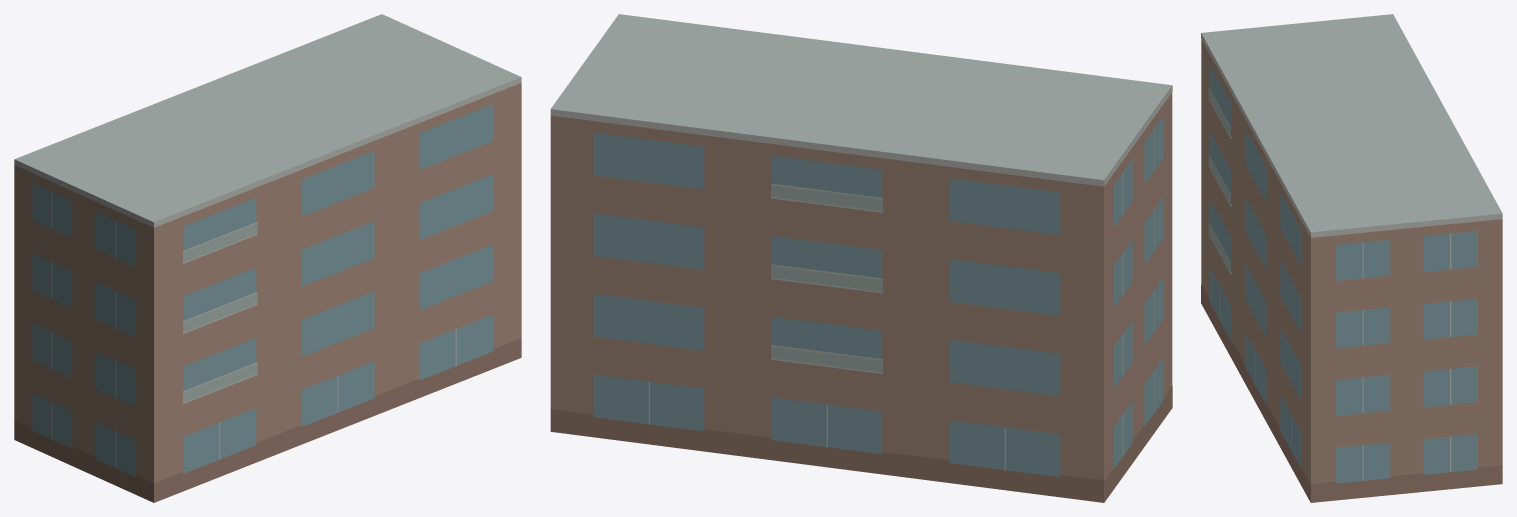
The model's file is residential-6fb0d76d-1c41-4325-9ea3-916b94d1a19b.glb.
The picture shows the model from 3 angles, left to right: view 1: azimuth 30°, elevation 25°; view 2: azimuth 150°, elevation 25°; view 3: azimuth 270°, elevation 25°; orthographic projection. The views are drawn at different scales.
Visible parts, largest first — view 1: residential-6fb0d76d-1c41-4325-9ea3-916b94d1a19b.tmp; view 2: residential-6fb0d76d-1c41-4325-9ea3-916b94d1a19b.tmp; view 3: residential-6fb0d76d-1c41-4325-9ea3-916b94d1a19b.tmp.
Boxes of the visible parts, x1,y1,x2,y2 form: residential-6fb0d76d-1c41-4325-9ea3-916b94d1a19b.tmp: (14,14,521,502); residential-6fb0d76d-1c41-4325-9ea3-916b94d1a19b.tmp: (550,14,1172,502); residential-6fb0d76d-1c41-4325-9ea3-916b94d1a19b.tmp: (1201,14,1502,502).
Bounding box in the file's own units: 21.16 × 12.2 × 12.35.
